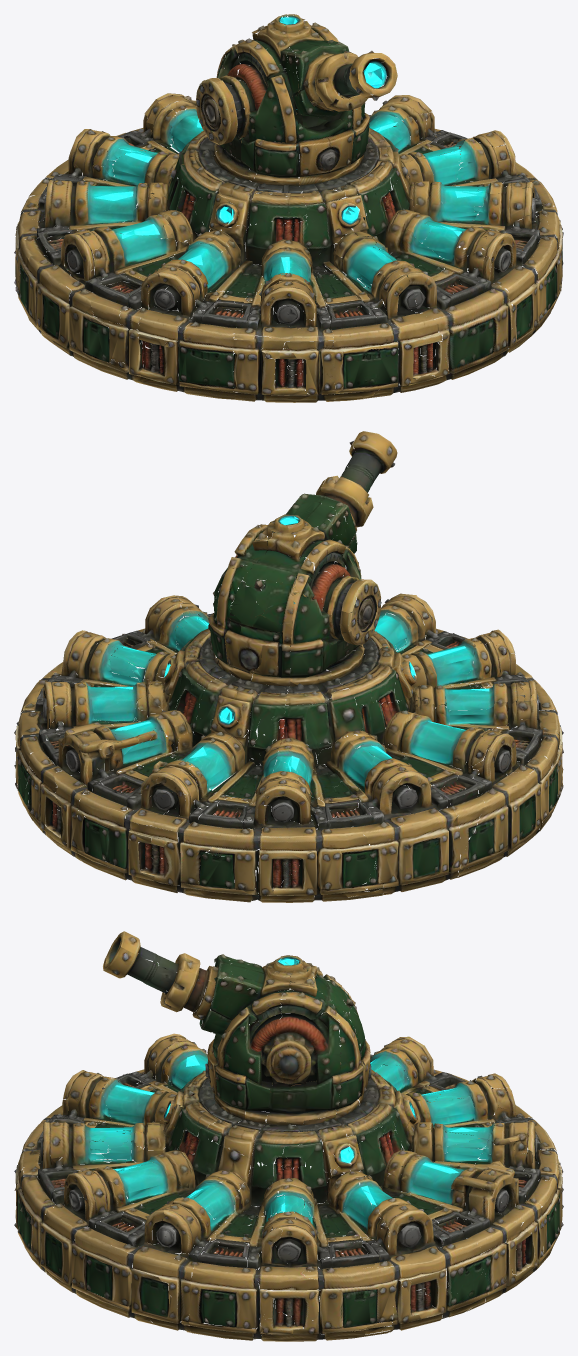
The model's file is warrior-5-tier-1.glb.
The picture shows the model from 3 angles, top to bottom: view 1: azimuth 30°, elevation 25°; view 2: azimuth 150°, elevation 25°; view 3: azimuth 270°, elevation 25°; orthographic projection.
Parts seen in each view (by area): view 1: fixed-platform, moving-assembly; view 2: fixed-platform, moving-assembly; view 3: fixed-platform, moving-assembly.
Boxes of the visible parts, x1,y1,x2,y2 form: fixed-platform: (14, 82, 563, 402); moving-assembly: (192, 14, 397, 192); fixed-platform: (14, 586, 563, 902); moving-assembly: (189, 431, 397, 695); fixed-platform: (14, 1033, 563, 1341); moving-assembly: (103, 931, 390, 1131).
Bounding box in the file's own units: 0.8318 × 0.4945 × 0.8332.
2 materials, 2 textured.
